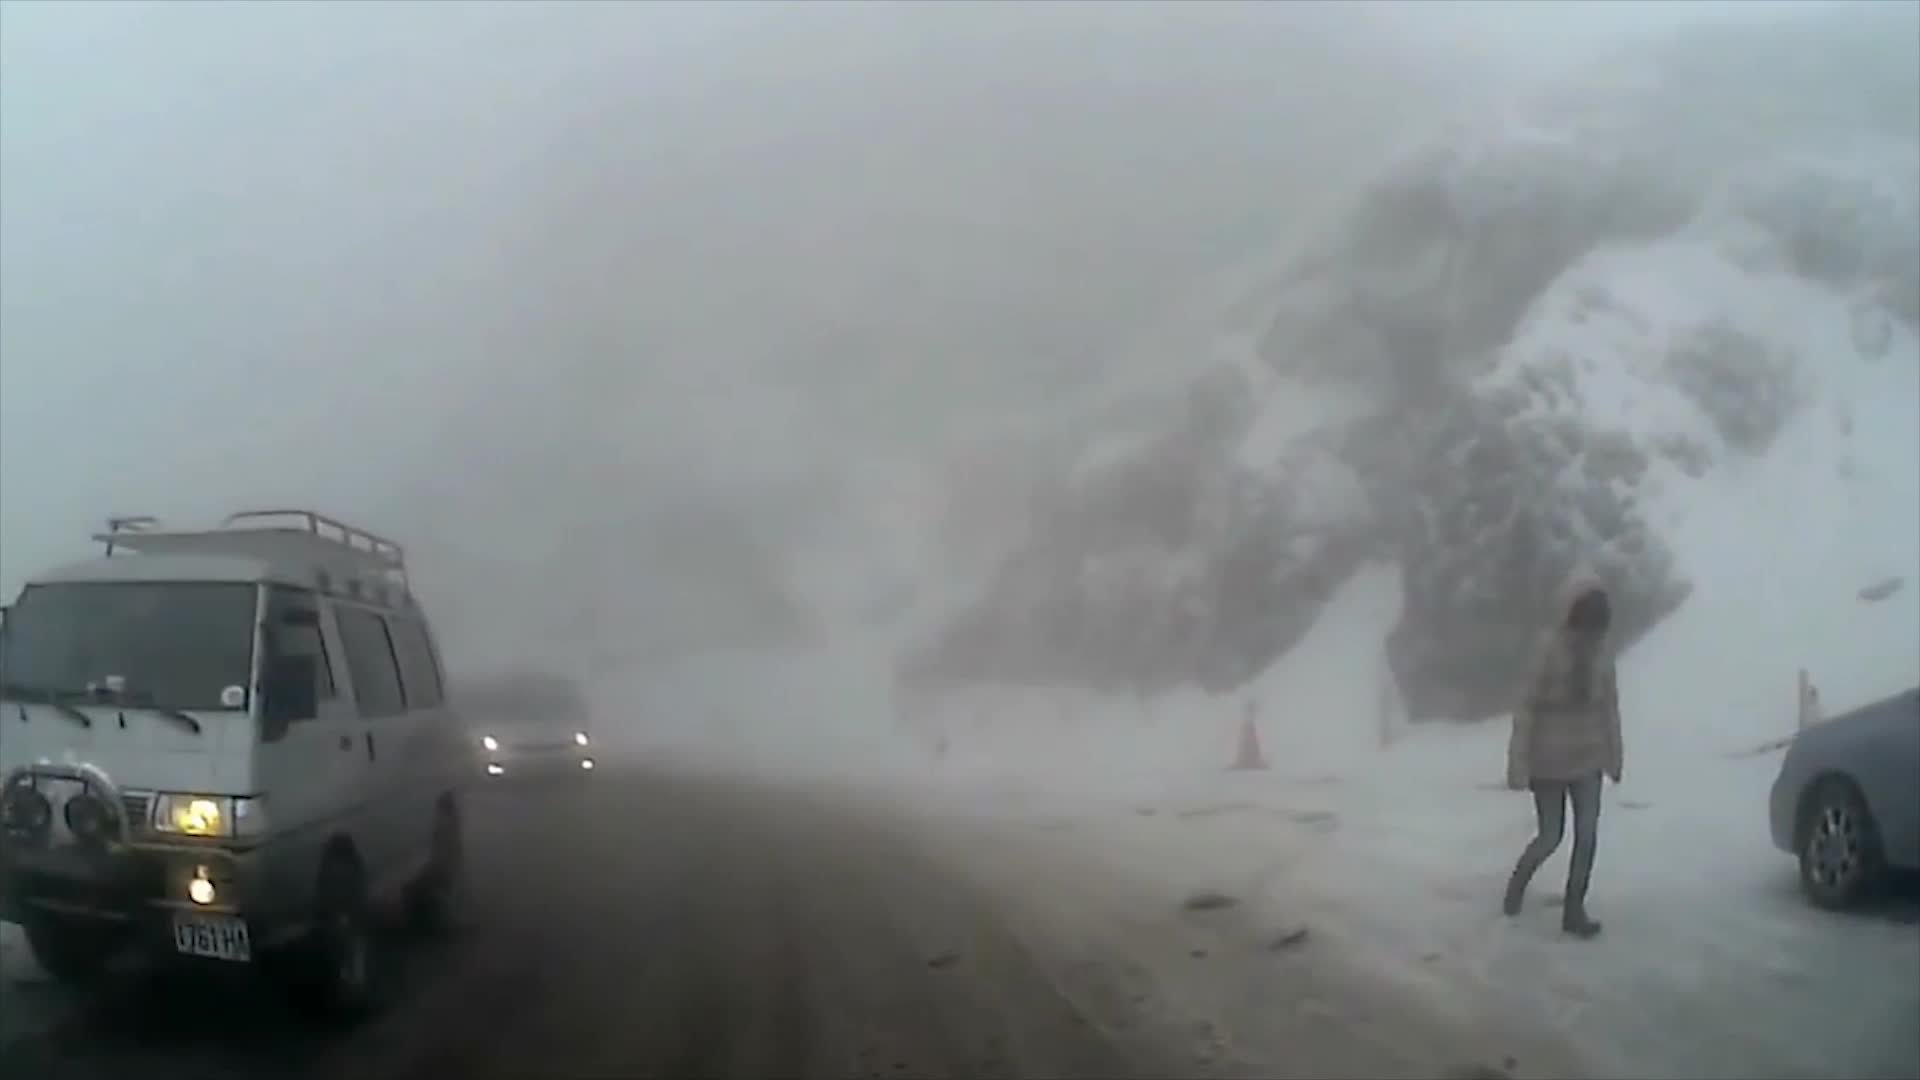pedestrian: (1504, 561, 1624, 935)
vehicle: (0, 507, 475, 1021), (1762, 678, 1920, 915), (436, 670, 598, 790)
